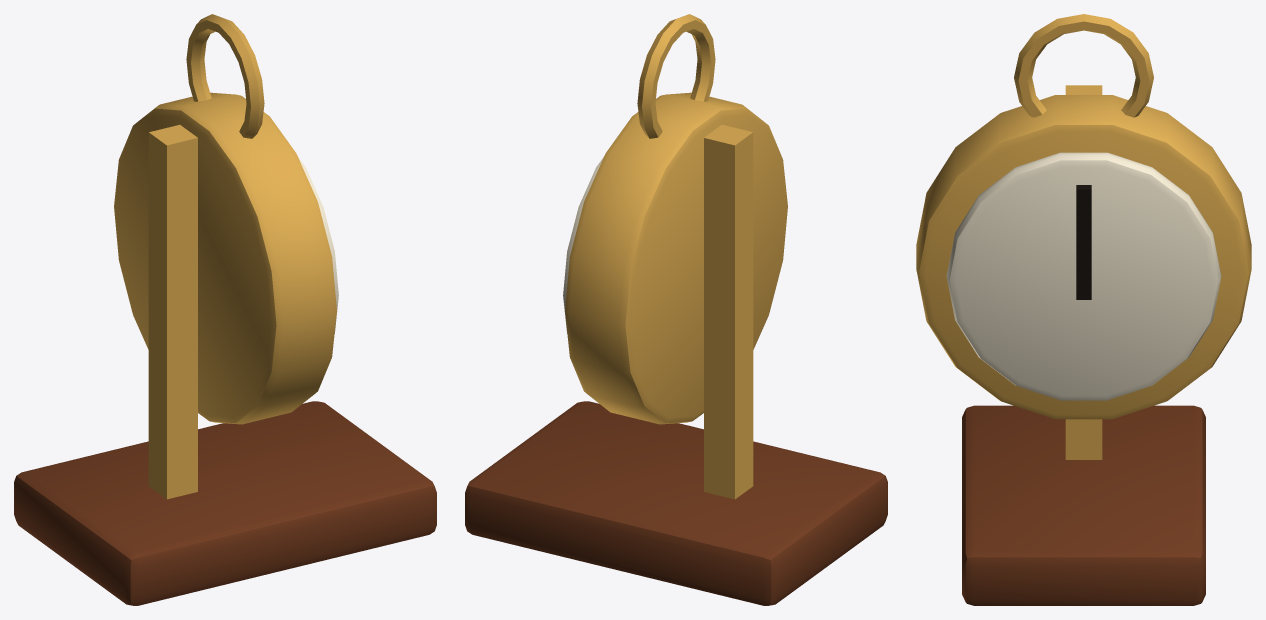
The model's file is RailClock.fbx.
The picture shows the model from 3 angles, left to right: view 1: azimuth 30°, elevation 25°; view 2: azimuth 150°, elevation 25°; view 3: azimuth 270°, elevation 25°; orthographic projection.
Visible parts, largest first — view 1: RailClock; view 2: RailClock; view 3: RailClock.
Part boxes in pixels (x1=…): RailClock: x1=14, y1=14, x2=436, y2=605; RailClock: x1=465, y1=14, x2=887, y2=605; RailClock: x1=916, y1=14, x2=1251, y2=605.
Bounding box in the file's own units: 120 × 188 × 110.
